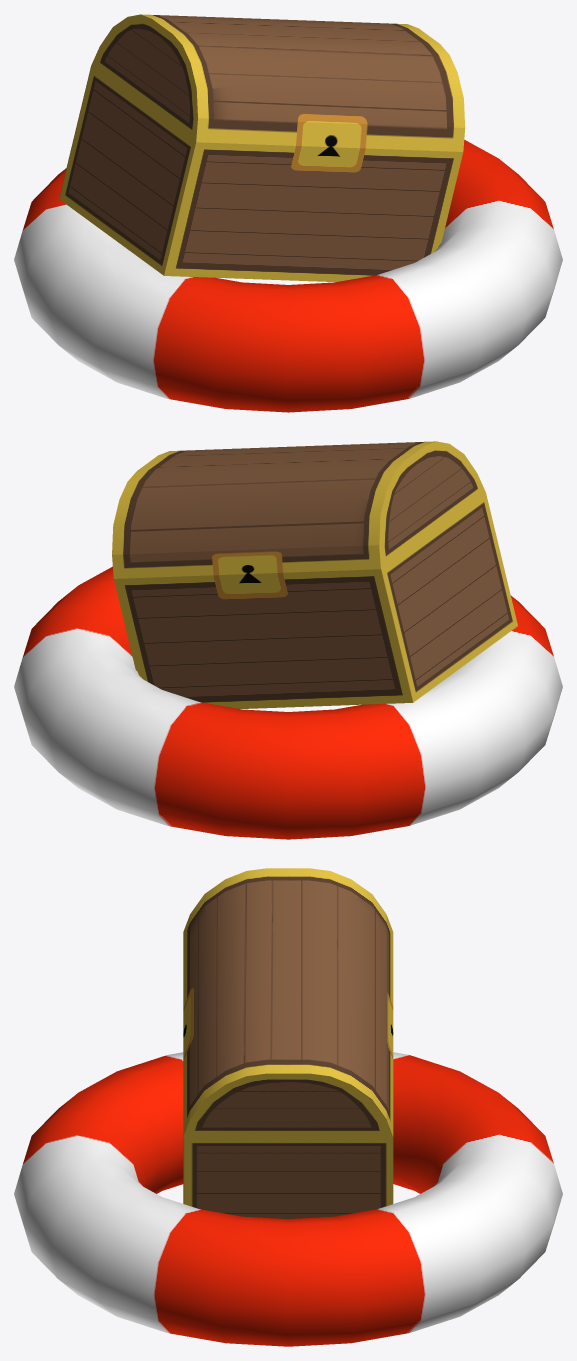
The model's file is Reddingsboie.FBX.
The picture shows the model from 3 angles, top to bottom: view 1: azimuth 30°, elevation 25°; view 2: azimuth 150°, elevation 25°; view 3: azimuth 270°, elevation 25°; orthographic projection.
Visible parts, largest first — view 1: Treasure, Ring; view 2: Treasure, Ring; view 3: Ring, Treasure.
Boxes of the visible parts, x1,y1,x2,y2 form: Treasure: [59, 14, 465, 282]; Ring: [14, 139, 562, 412]; Treasure: [112, 441, 517, 708]; Ring: [14, 566, 562, 839]; Ring: [14, 1052, 562, 1346]; Treasure: [183, 868, 393, 1219].
Size of the model in its own units: 4.3 by 2.79 by 4.3.
